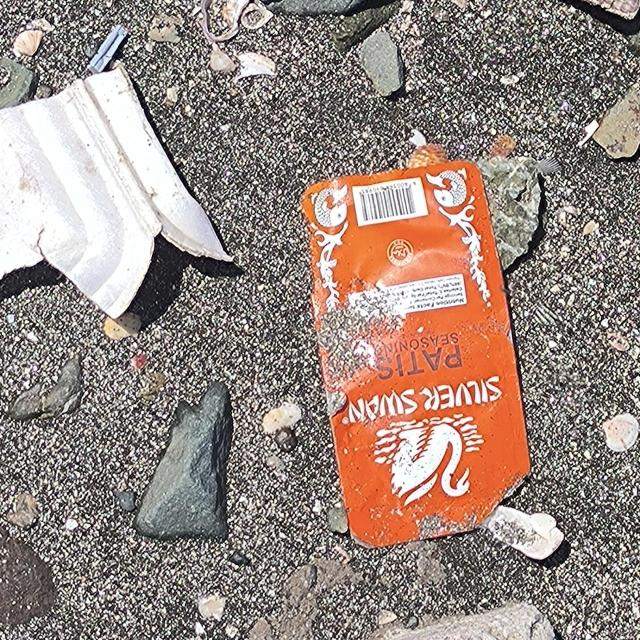plastic_waste: (298, 158, 536, 553)
styrofoam_waste: (1, 63, 238, 321)
